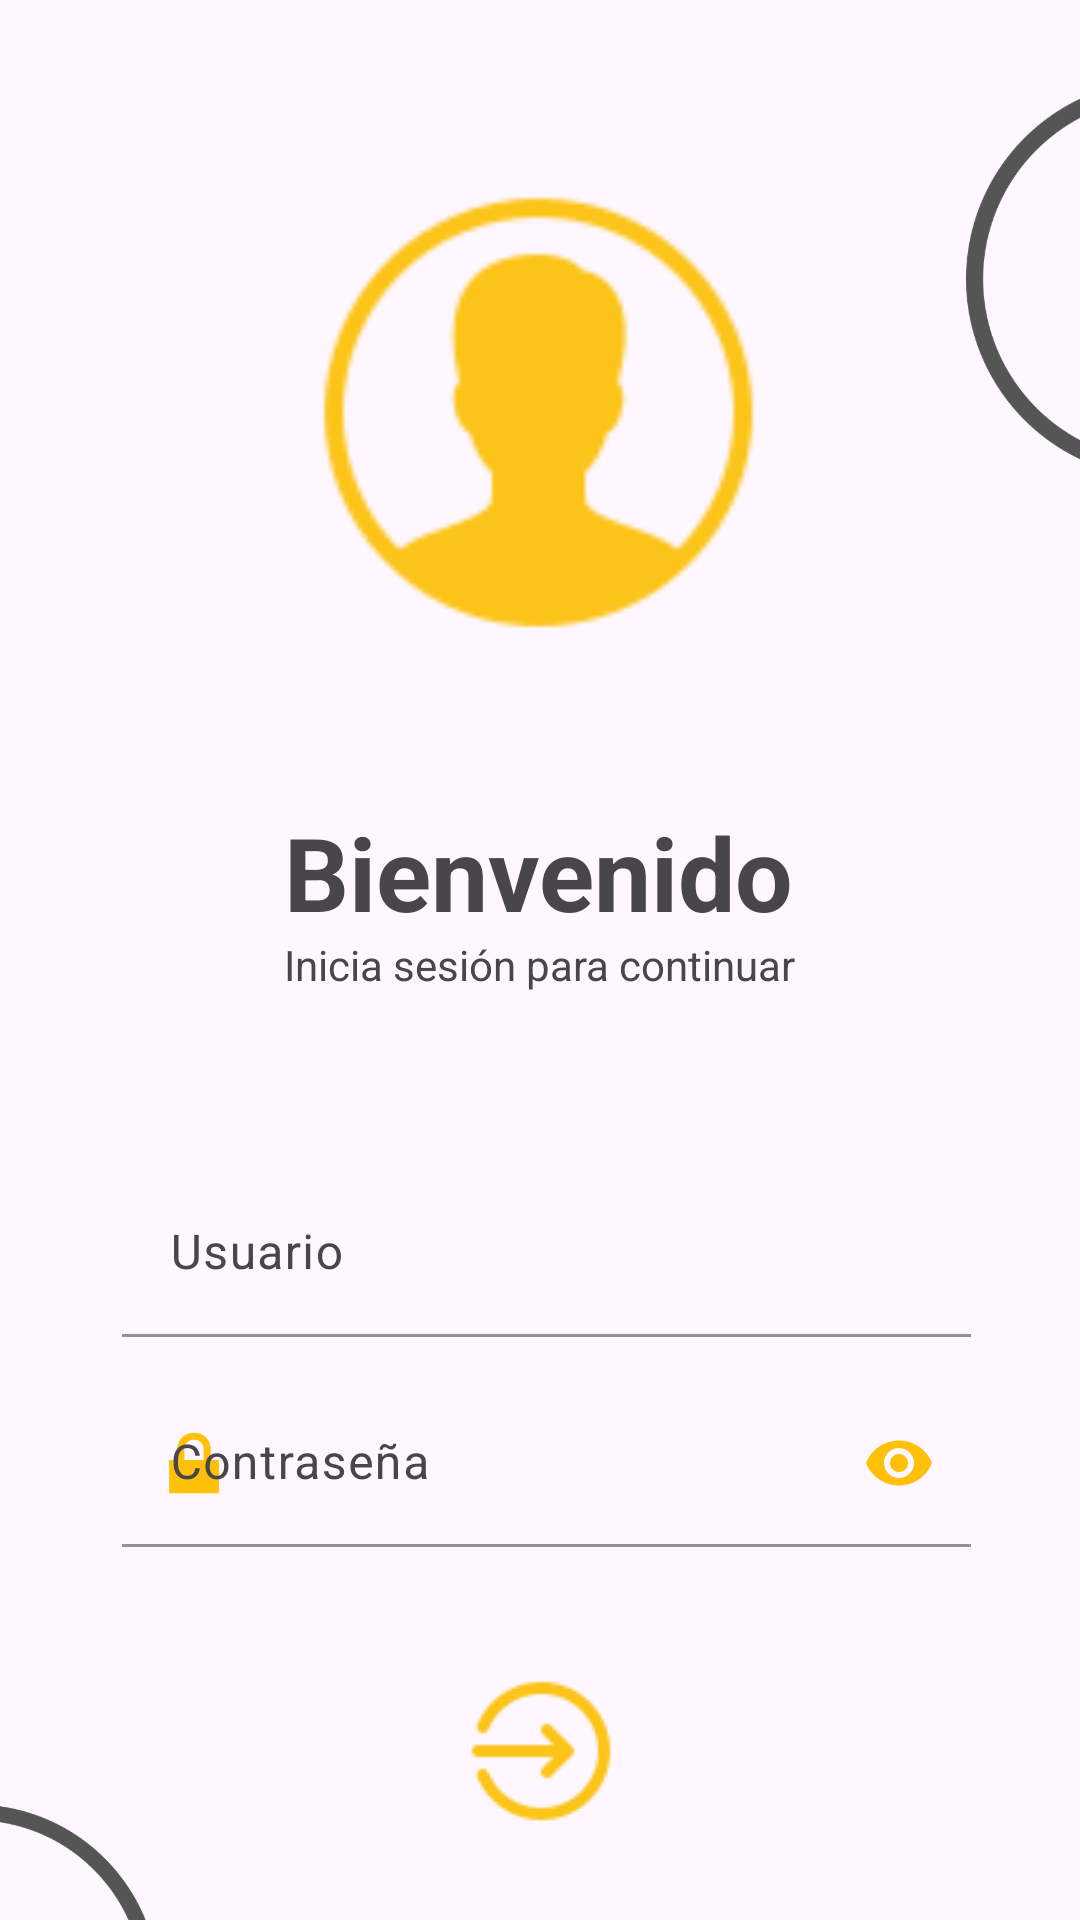

Named icons in this screenshot (1080*1920) and their centers, point (x, y):
login: point (541, 1751)
